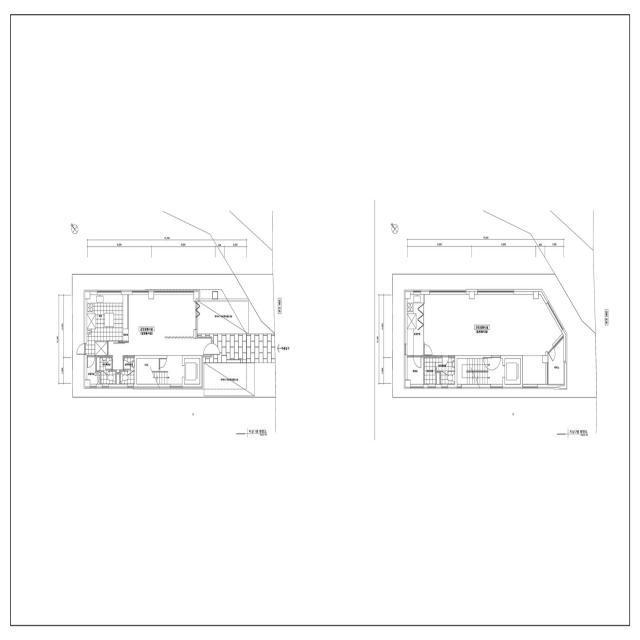space_balconi: (549, 338, 564, 384)
space_dressroom: (425, 357, 436, 384)
space_elevator: (184, 358, 200, 384), (505, 359, 521, 384)
space_elevator_hall: (160, 356, 182, 384)
space_kitchen: (87, 295, 123, 356), (407, 294, 424, 355)
space_other: (425, 294, 562, 384), (108, 295, 211, 373), (137, 358, 159, 384), (407, 357, 423, 384), (87, 357, 100, 384), (123, 329, 129, 341), (437, 373, 440, 384), (116, 374, 119, 384)
space_staircase: (457, 358, 503, 384), (152, 372, 167, 384)
space_toilet: (436, 357, 455, 384), (97, 357, 115, 384), (121, 357, 135, 384)
